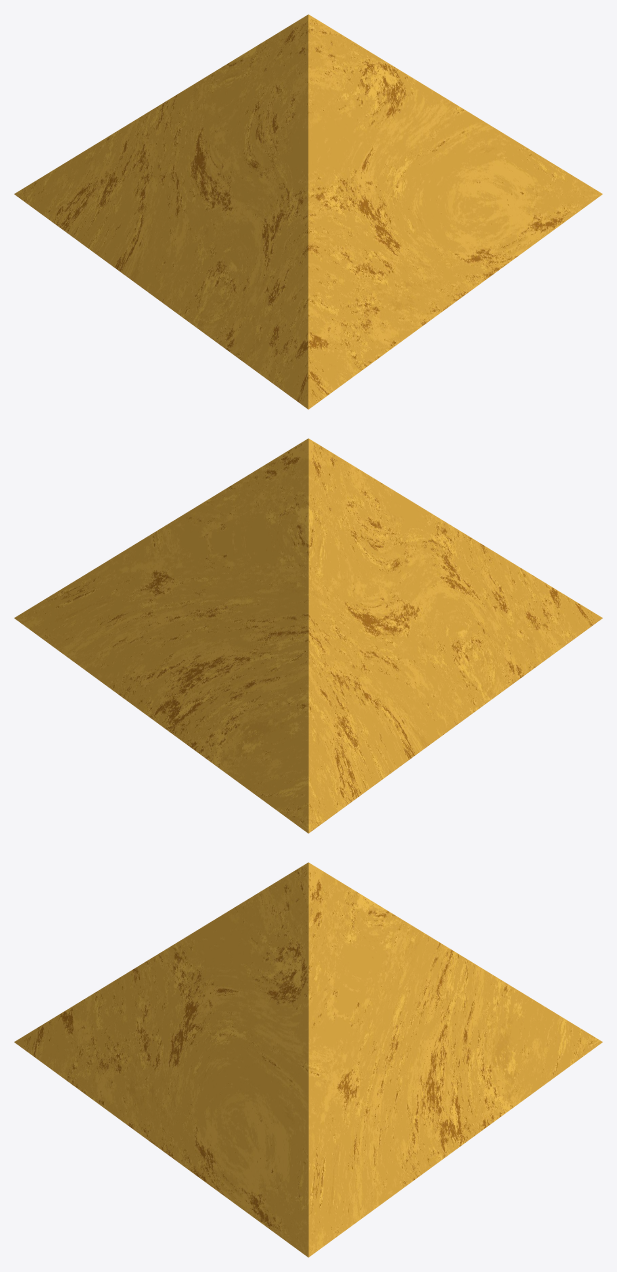
The model's file is GoldTetrahedron2.glb.
3 renders of one model, top to bottom at view 1: azimuth 30°, elevation 25°; view 2: azimuth 150°, elevation 25°; view 3: azimuth 270°, elevation 25°, orthographic.
Visible parts, largest first — view 1: EquilateralTetrahedron_.001; view 2: EquilateralTetrahedron_.001; view 3: EquilateralTetrahedron_.001.
Part boxes in pixels (left/top/right/bottom): EquilateralTetrahedron_.001: left=14, top=14, right=602, bottom=409; EquilateralTetrahedron_.001: left=14, top=438, right=602, bottom=833; EquilateralTetrahedron_.001: left=14, top=862, right=602, bottom=1257.
Size of the model in its own units: 1.5 by 0.8165 by 1.73.
Materials: 1 (1 with a texture image).
